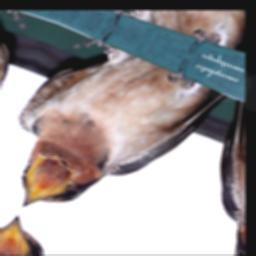Swallow: (0, 20, 236, 249)
